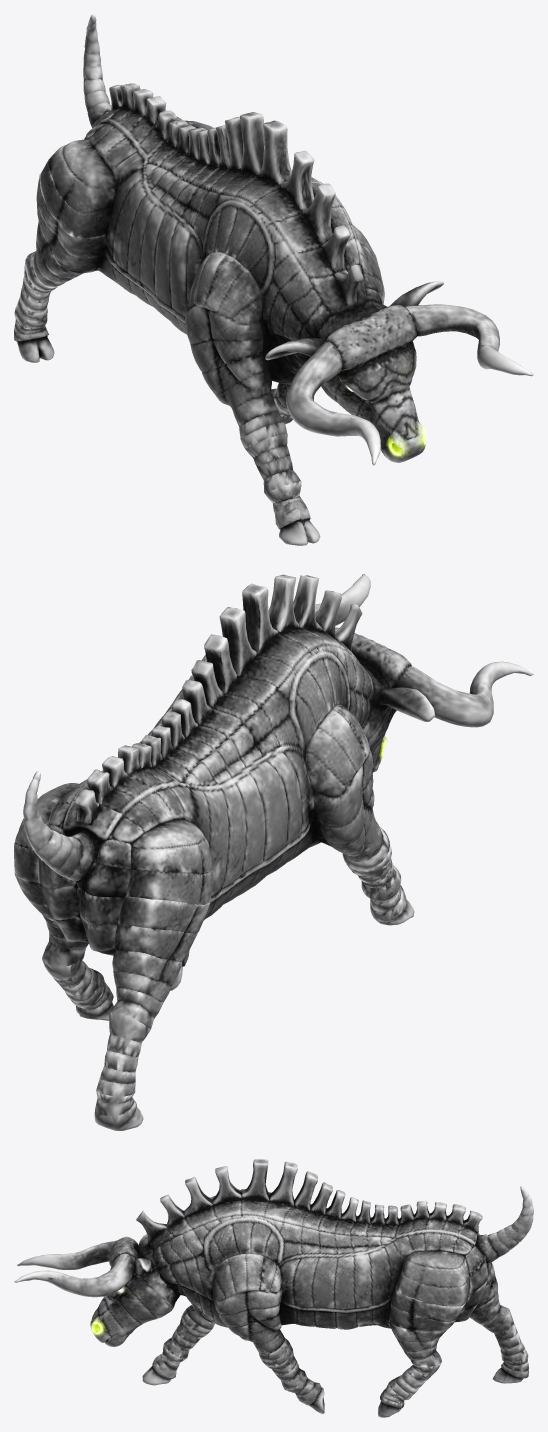
Rendered from MZ4250 - Gorgon 2025.glb.
3 renders of one model, top to bottom at view 1: azimuth 30°, elevation 25°; view 2: azimuth 150°, elevation 25°; view 3: azimuth 270°, elevation 25°, orthographic. The views are drawn at different scales.
Visible parts, largest first — view 1: ORGANIC BASE SPHERE.001; view 2: ORGANIC BASE SPHERE.001; view 3: ORGANIC BASE SPHERE.001.
Part boxes in pixels (x1,y1,x2,y2): ORGANIC BASE SPHERE.001: (14,14,533,545); ORGANIC BASE SPHERE.001: (14,574,533,1130); ORGANIC BASE SPHERE.001: (14,1159,533,1417).
Size of the model in its own units: 51.64 by 85.46 by 169.
1 material, 1 textured.
